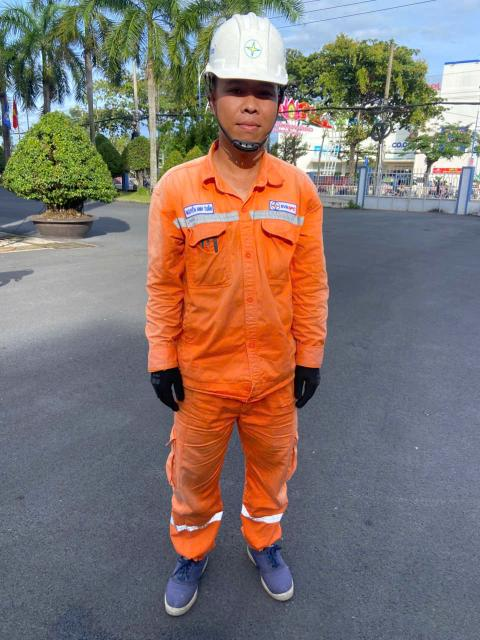gloves: (274, 358, 335, 412), (148, 361, 195, 414)
helmet: (186, 4, 316, 101)
shoes: (248, 528, 302, 603), (161, 550, 208, 618)
